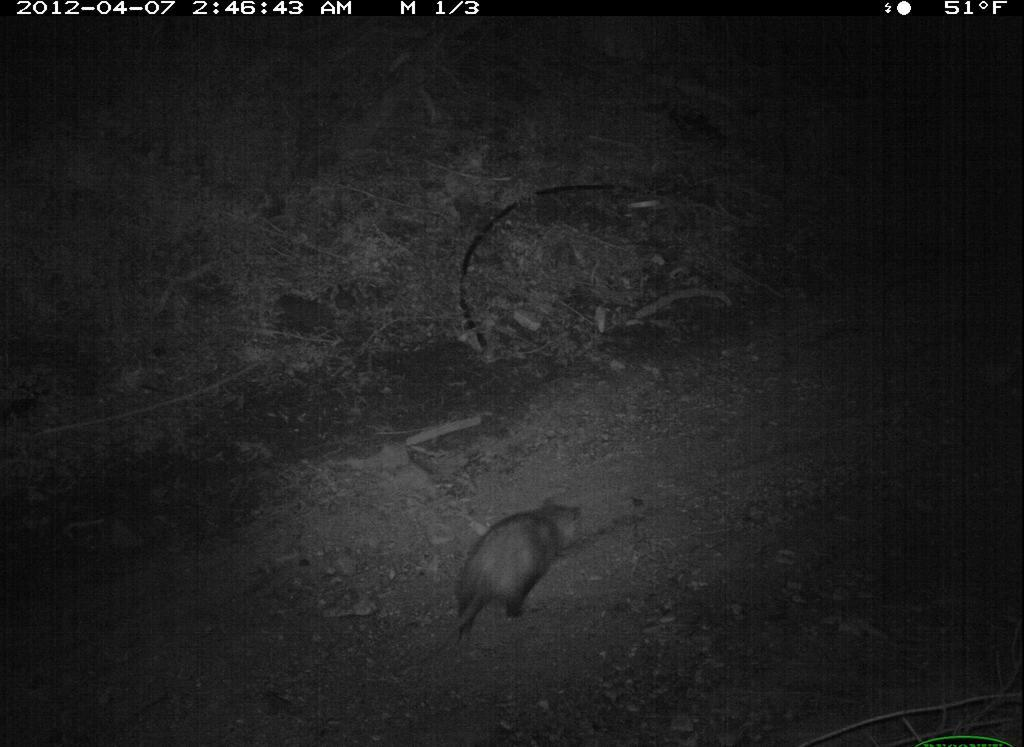opossum: (414, 481, 603, 656)
